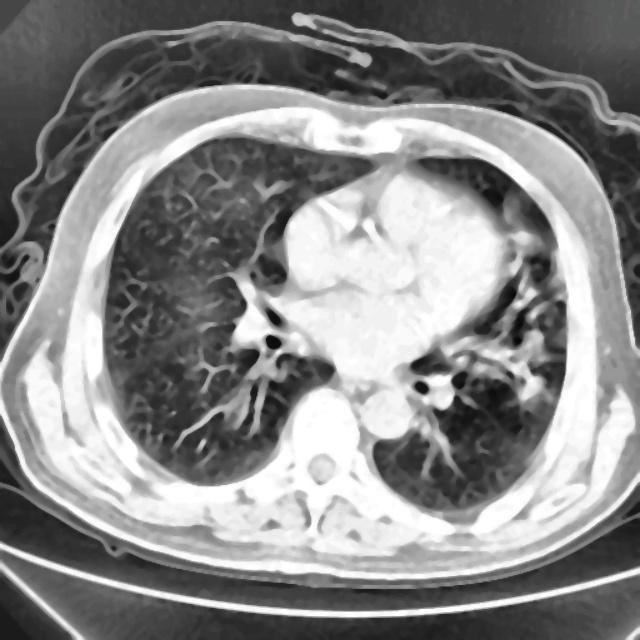covid: (0, 15, 639, 592)
